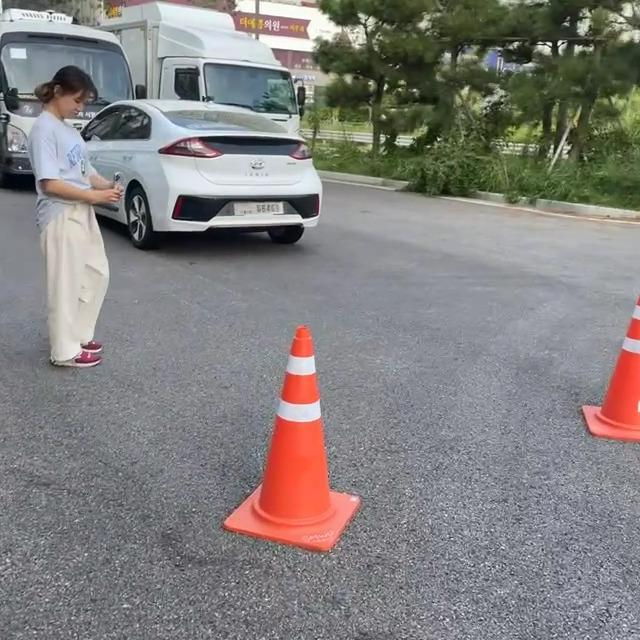fallen_object: (193, 307, 382, 582), (544, 227, 640, 520)
